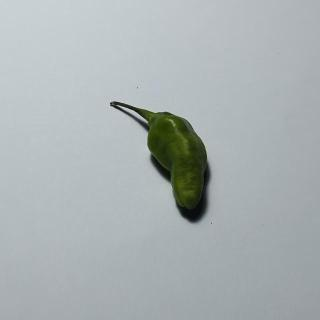Cabai Hijau: (100, 94, 212, 222)
